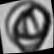correct: (1, 0, 53, 54)
